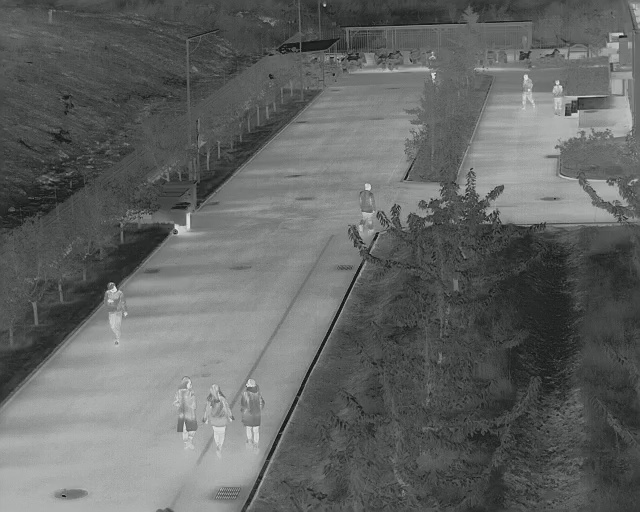person: (202, 384, 235, 455), (173, 375, 198, 450), (240, 378, 264, 451), (103, 281, 129, 344), (357, 183, 377, 232), (518, 73, 536, 109), (549, 80, 563, 115)
